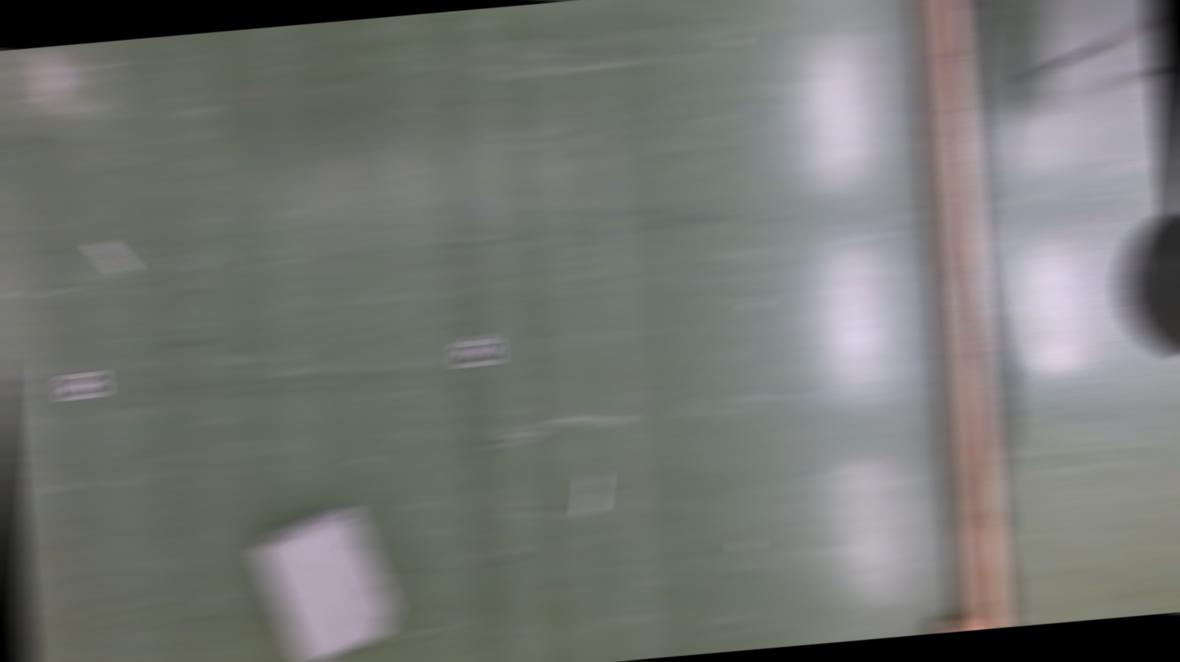probes: (92, 239, 132, 274), (576, 469, 606, 512)
rako: (248, 500, 400, 662)
